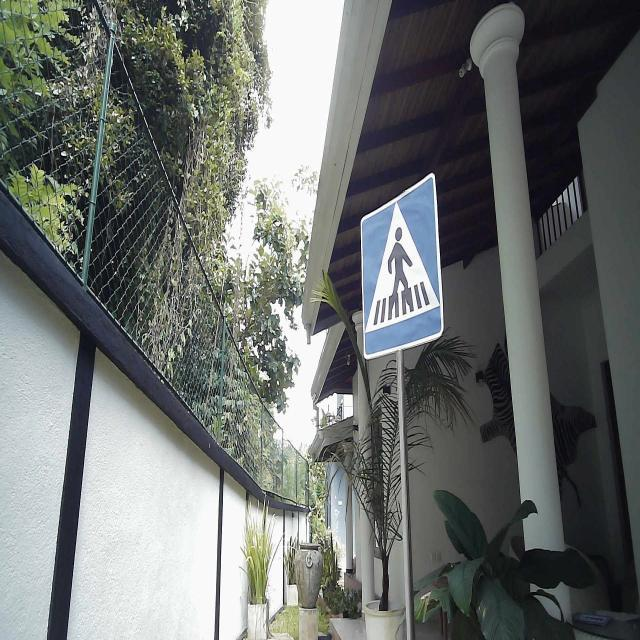crosswalk_sign: (358, 172, 446, 360)
